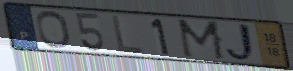1: (149, 17, 172, 56)
5: (74, 12, 105, 53)
J: (224, 22, 260, 64)
L: (110, 14, 146, 55)
M: (175, 18, 228, 62)
O: (35, 10, 74, 50)
